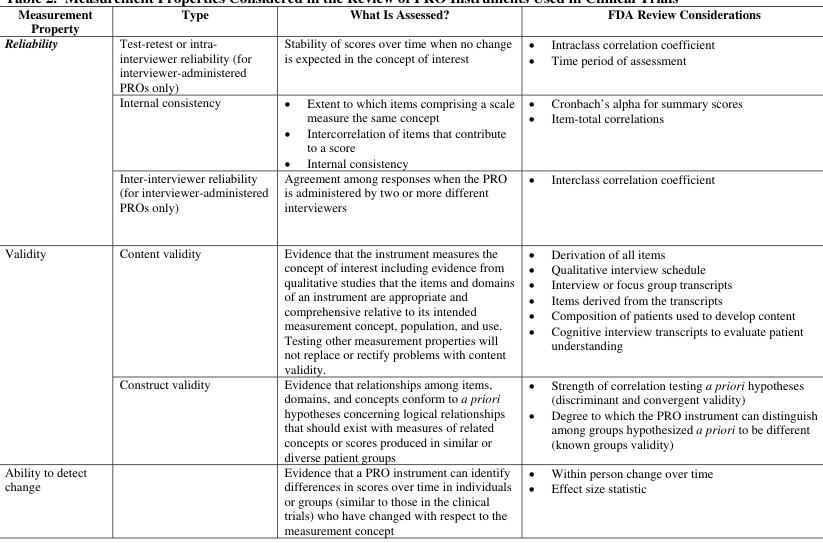table: (3, 4, 816, 537)
table column: (520, 4, 816, 537), (275, 4, 520, 537), (105, 4, 275, 537), (3, 4, 105, 537)
table column header: (3, 4, 816, 35)
table row: (3, 228, 816, 375), (3, 375, 816, 463), (3, 93, 816, 169), (3, 463, 816, 537), (3, 169, 816, 228), (3, 35, 816, 93), (3, 4, 816, 35)
table spanning cell: (3, 228, 105, 463), (3, 35, 105, 228)
